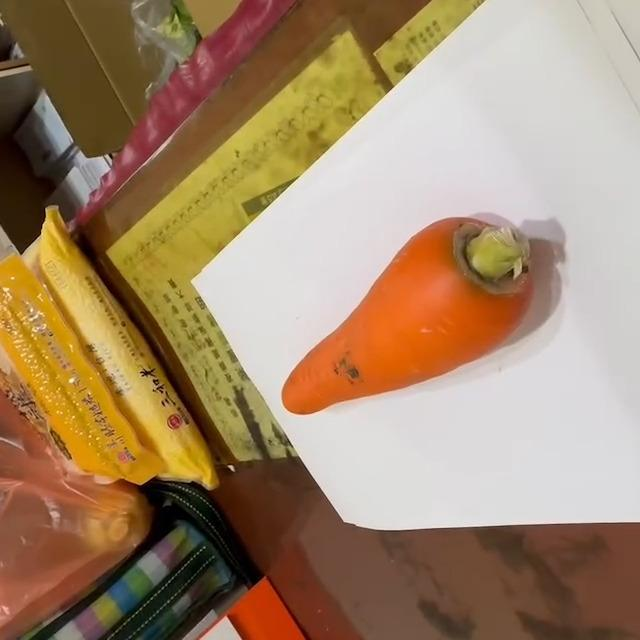carrot: (280, 216, 538, 419)
